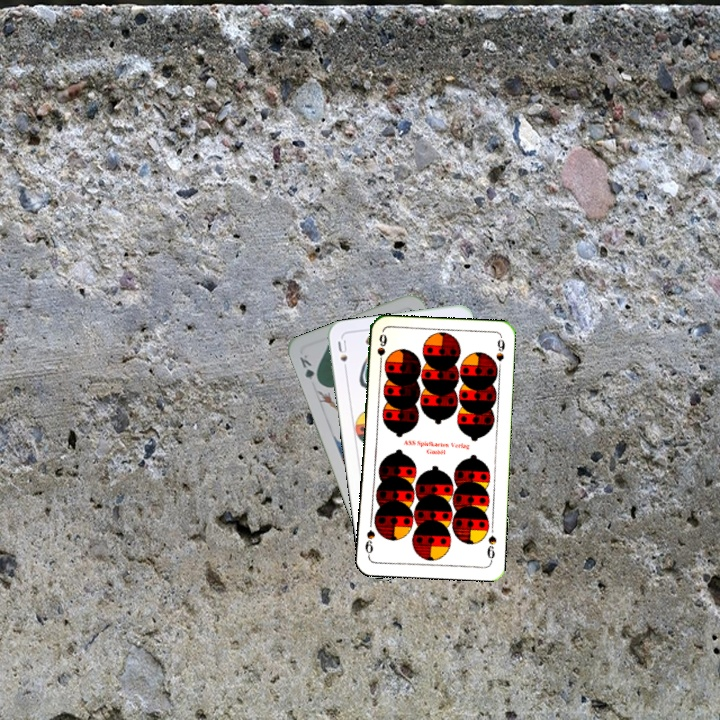GK: (295, 350, 322, 387)
S9: (373, 330, 389, 371), (483, 532, 499, 564)
SU: (334, 335, 351, 376)
